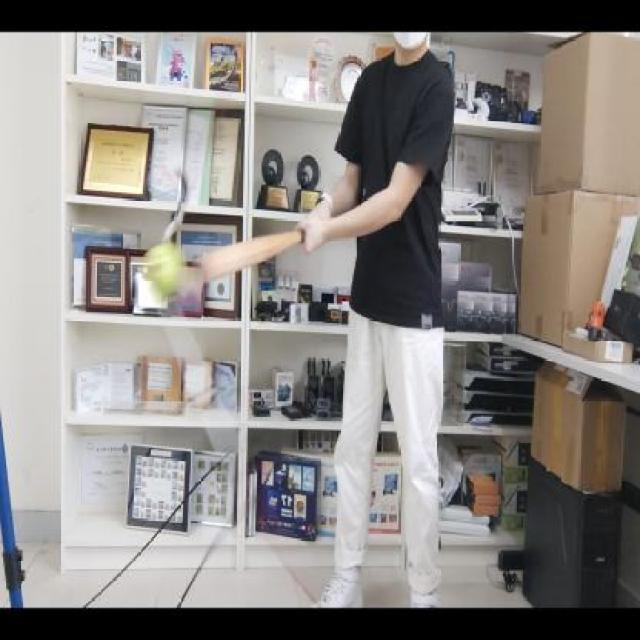baseball: (138, 239, 190, 298)
